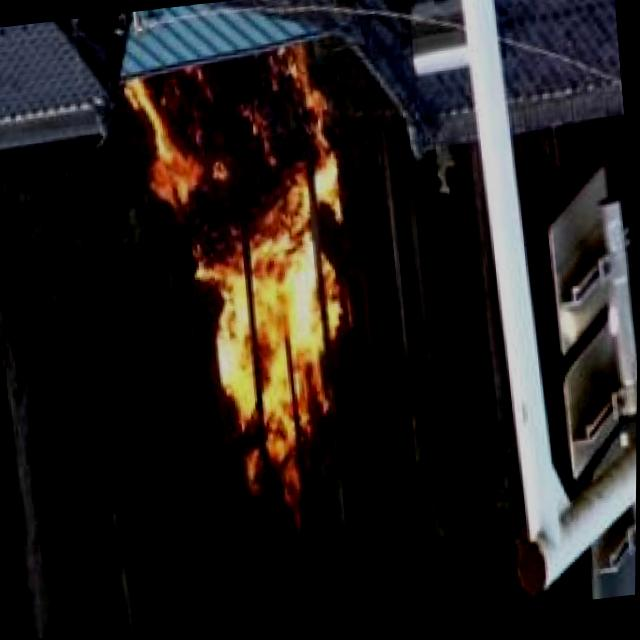helmet: (131, 43, 374, 519)
